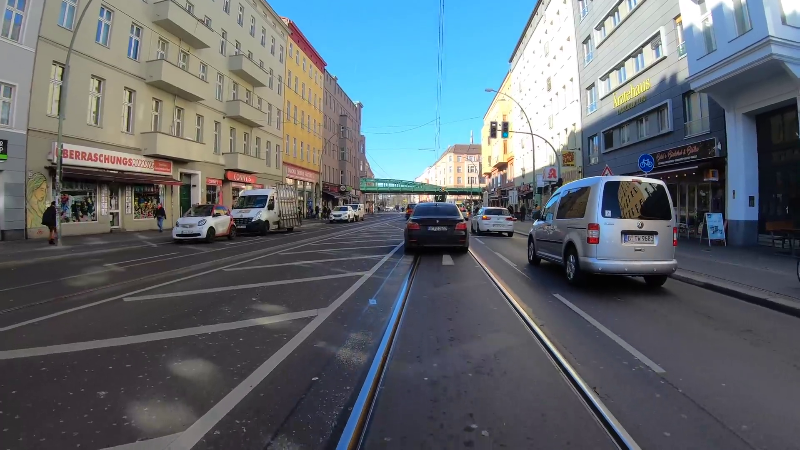Plate: (620, 232, 655, 243), (425, 224, 447, 231), (179, 229, 194, 234), (491, 223, 506, 227)
